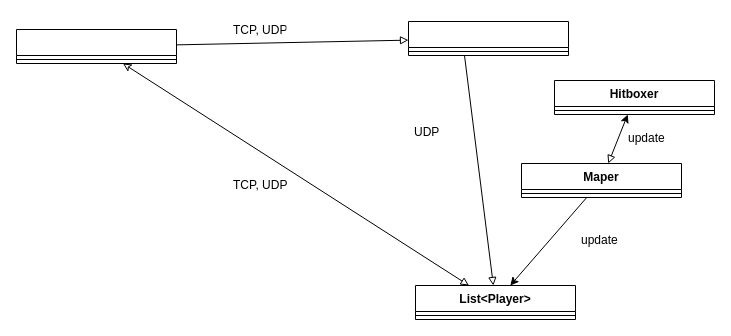
This 731x336 diagram has some shape labels left out. The centre of each missing label's shape, as x and y in pixels:
"Client" goes at point (96, 46).
"Server" goes at point (488, 38).
